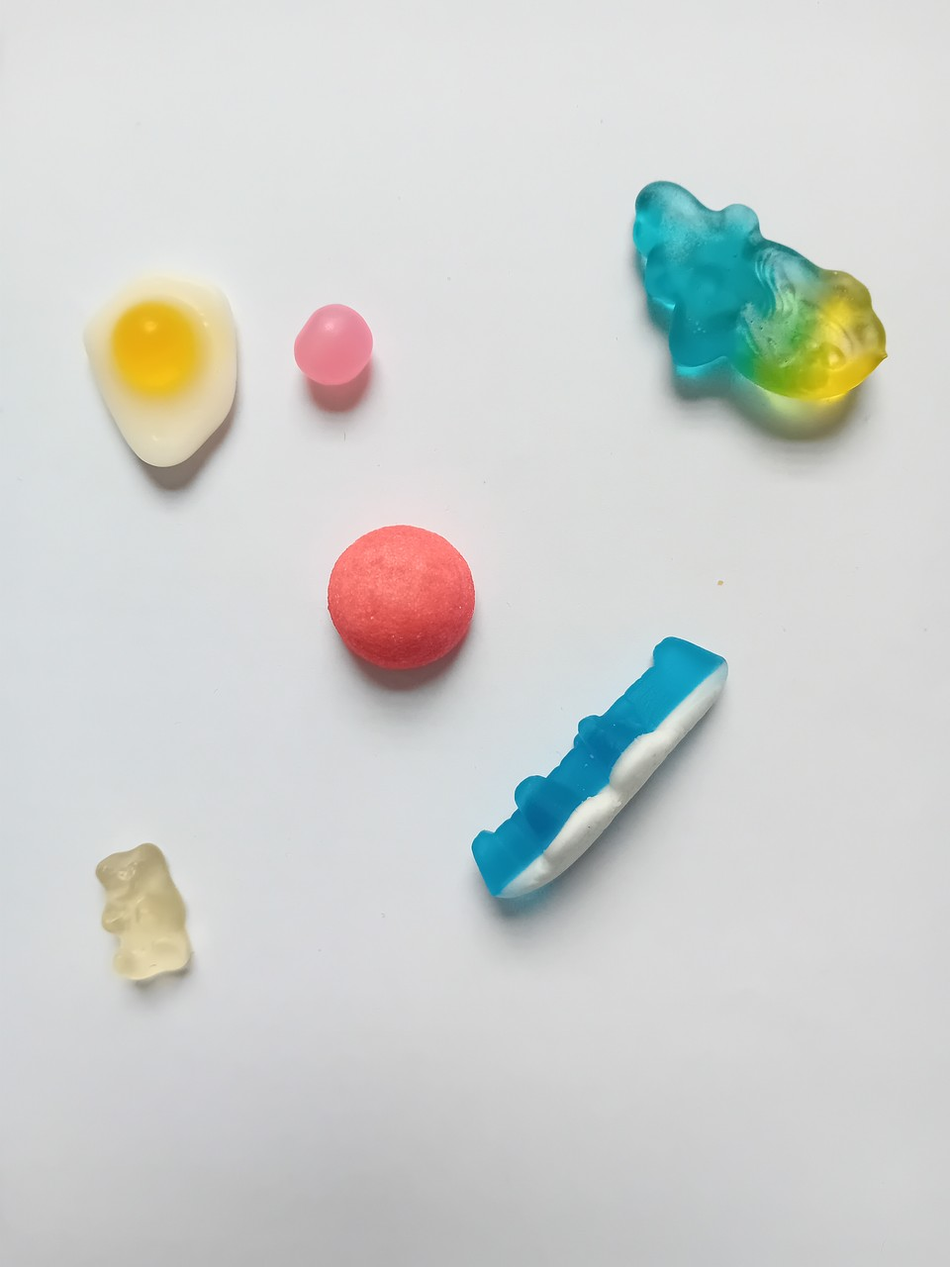crocodile_bleu: (457, 628, 732, 909)
dragibus_rose: (282, 293, 378, 391)
oeuf_oeuf: (70, 265, 248, 475)
ourson_blanc: (90, 844, 198, 983)
schtroumpf_bleu-jaune: (621, 176, 896, 407)
tagada_fraise: (313, 518, 482, 675)
